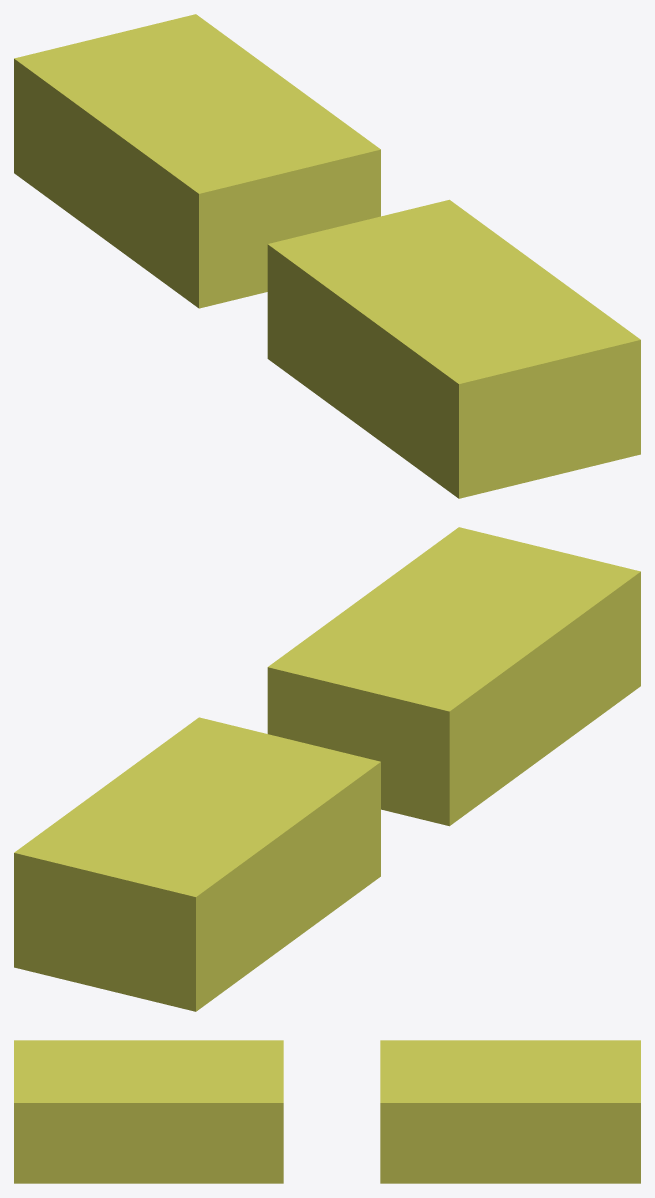
Rendered from URINE_DROPS.fbx.
3 views of the same model, one above another, from view 1: azimuth 30°, elevation 25°; view 2: azimuth 150°, elevation 25°; view 3: azimuth 270°, elevation 25° (orthographic). The views are drawn at different scales.
Parts seen in each view (by area): view 1: URINE_DROPS; view 2: URINE_DROPS; view 3: URINE_DROPS.
Boxes of the visible parts, bbox=[...] form: URINE_DROPS: bbox=[14, 14, 640, 498]; URINE_DROPS: bbox=[14, 527, 640, 1011]; URINE_DROPS: bbox=[14, 1040, 640, 1183].
Bounding box in the file's own units: 1 × 0.602 × 4.23.
